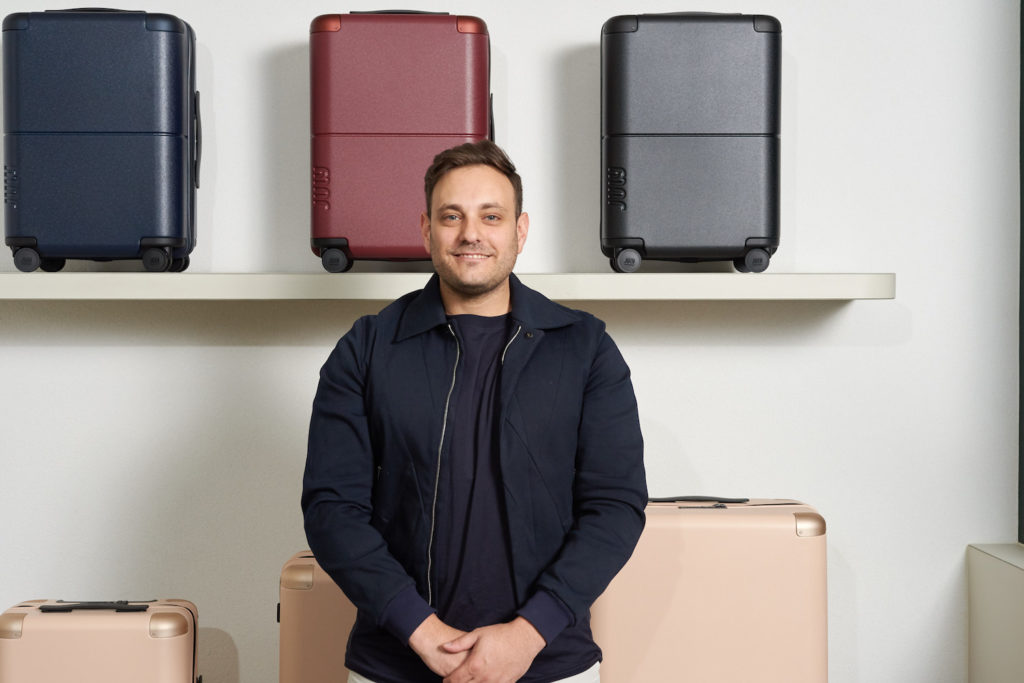luggage: (1, 18, 195, 255), (608, 23, 775, 271), (313, 23, 477, 241), (635, 499, 829, 683), (3, 603, 197, 681), (281, 562, 346, 679)
